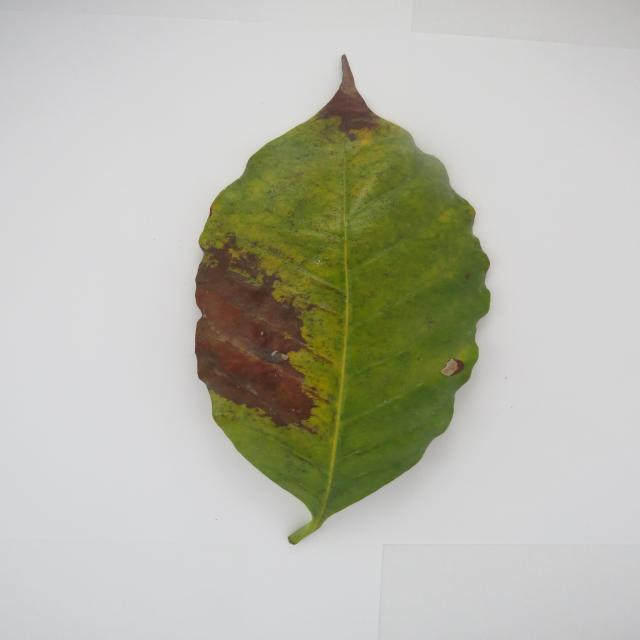DeficienciaNutricional-Potasio: (195, 56, 490, 544)
